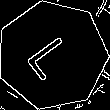L_NE: (23, 28, 82, 83)
